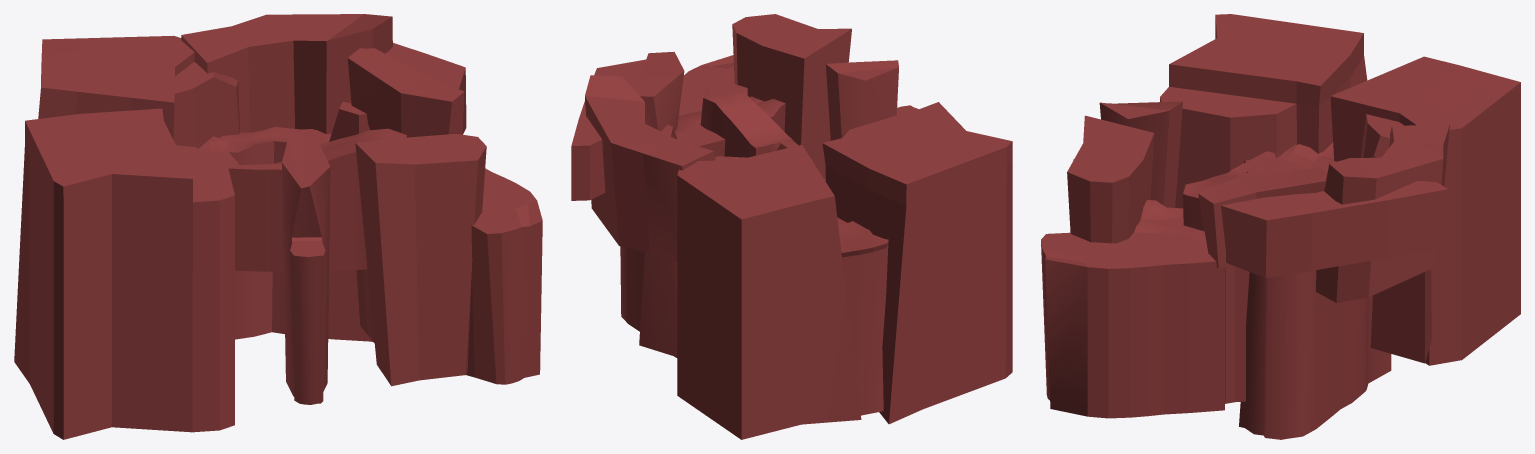
File: Zone3Final.FBX
The picture shows the model from 3 angles, left to right: view 1: azimuth 30°, elevation 25°; view 2: azimuth 150°, elevation 25°; view 3: azimuth 270°, elevation 25°; orthographic projection. The views are drawn at different scales.
Visible parts, largest first — view 1: New_Game_Object__4_, New_Game_Object_7, New_Game_Object_4, New_Game_Object_2, New_Game_Object__3_, New_Game_Object__3__1, Cube, New_Game_Object_3, New_Game_Object_5, New_Game_Object__5_, New_Game_Object, New_Game_Object_6 (+2 smaller); view 2: New_Game_Object__3__1, New_Game_Object__4_, New_Game_Object_4, New_Game_Object_7, Box001, New_Game_Object__3_, Cube, New_Game_Object__5_, New_Game_Object, New_Game_Object_5, New_Game_Object_2, New_Game_Object_1 (+1 smaller); view 3: New_Game_Object_2, New_Game_Object__3__1, New_Game_Object__4_, New_Game_Object_3, New_Game_Object, New_Game_Object_4, New_Game_Object_7, New_Game_Object__5_, New_Game_Object_1, New_Game_Object_5, New_Game_Object__3_, Cube (+1 smaller).
Boxes of the visible parts, x1,y1,x2,y2 form: New_Game_Object__4_: (14, 108, 234, 439); New_Game_Object_7: (355, 134, 486, 386); New_Game_Object_4: (181, 14, 392, 133); New_Game_Object_2: (466, 168, 542, 384); New_Game_Object__3_: (282, 136, 330, 404); New_Game_Object__3__1: (38, 35, 194, 139); Cube: (228, 128, 406, 272); New_Game_Object_3: (219, 127, 373, 342); New_Game_Object_5: (347, 48, 464, 137); New_Game_Object__5_: (173, 61, 240, 148); New_Game_Object: (385, 43, 466, 134); New_Game_Object_6: (329, 102, 369, 141); New_Game_Object__3__1: (677, 144, 861, 439); New_Game_Object__4_: (822, 102, 1012, 424); New_Game_Object_4: (585, 75, 715, 262); New_Game_Object_7: (732, 14, 851, 178); Box001: (837, 217, 888, 415); New_Game_Object__3_: (826, 60, 918, 140); Cube: (700, 83, 812, 161); New_Game_Object__5_: (639, 156, 746, 356); New_Game_Object: (571, 59, 646, 200); New_Game_Object_5: (630, 51, 684, 131); New_Game_Object_2: (678, 55, 734, 116); New_Game_Object_1: (675, 96, 785, 156); New_Game_Object_2: (1041, 232, 1225, 418); New_Game_Object__3__1: (1330, 56, 1520, 365); New_Game_Object__4_: (1160, 14, 1367, 208); New_Game_Object_3: (1239, 270, 1391, 439); New_Game_Object: (1221, 181, 1448, 277); New_Game_Object_4: (1316, 123, 1449, 302); New_Game_Object_7: (1067, 115, 1154, 243); New_Game_Object__5_: (1360, 114, 1431, 363); New_Game_Object_1: (1134, 200, 1249, 403); New_Game_Object_5: (1198, 167, 1327, 268); New_Game_Object__3_: (1073, 101, 1182, 207); Cube: (1183, 151, 1280, 231).
Bounding box in the file's own units: 16125 × 10023 × 16214.
